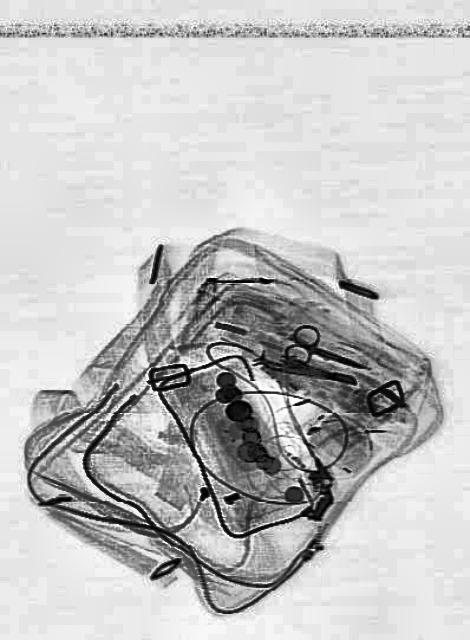Scissors: (282, 316, 370, 390)
